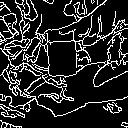cube: (43, 39, 81, 82)
